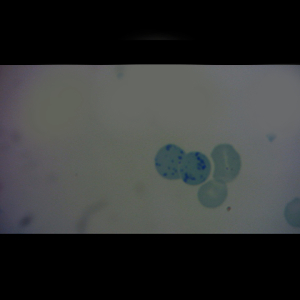aggregate reticulocyte: (153, 143, 190, 182), (179, 151, 212, 186)
erythrocyte: (196, 179, 229, 209)
punctate reticulocyte: (210, 143, 242, 184)
